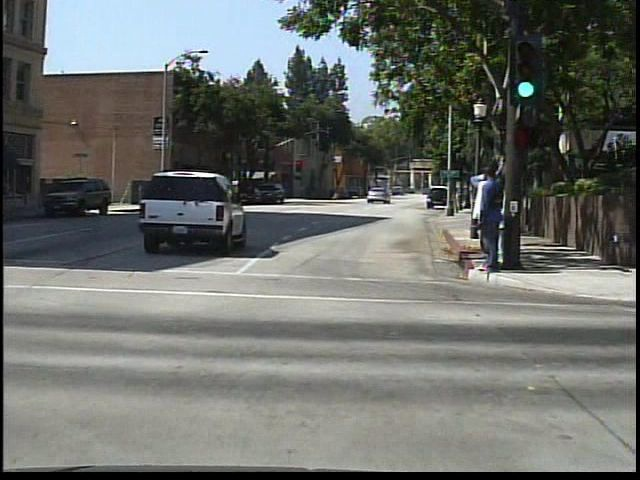person: (466, 169, 496, 274), (476, 166, 503, 276), (329, 185, 340, 201)
